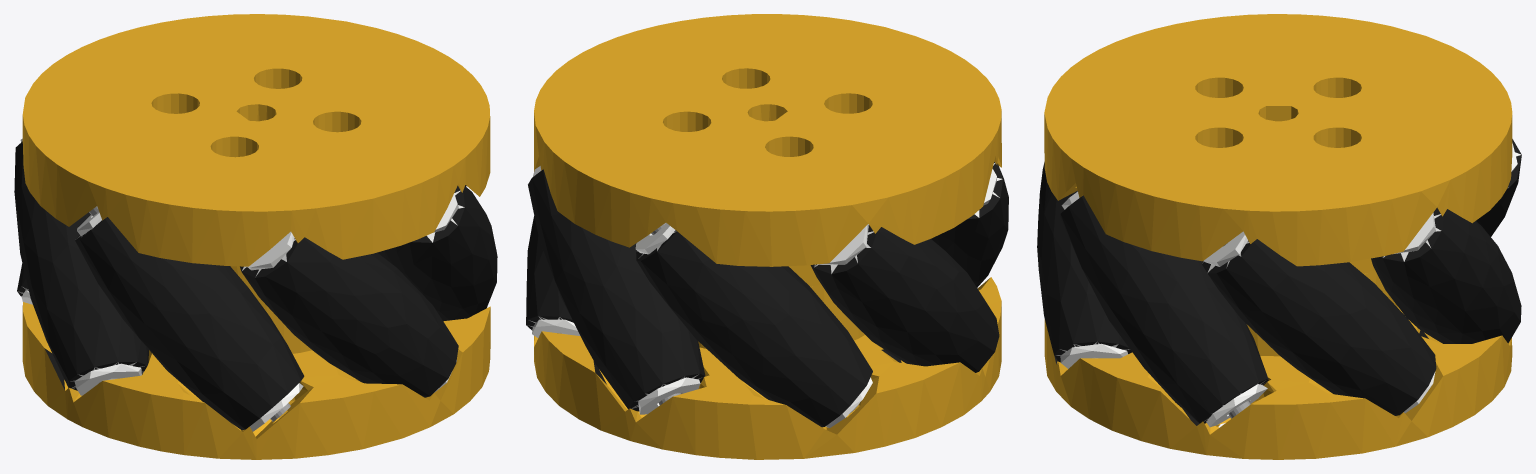
File: rear_right_wheel.obj
3 renders of one model, left to right at view 1: azimuth 30°, elevation 25°; view 2: azimuth 150°, elevation 25°; view 3: azimuth 270°, elevation 25°, orthographic.
Bounding box in the file's own units: 0.0397 × 0.0225 × 0.0398.
